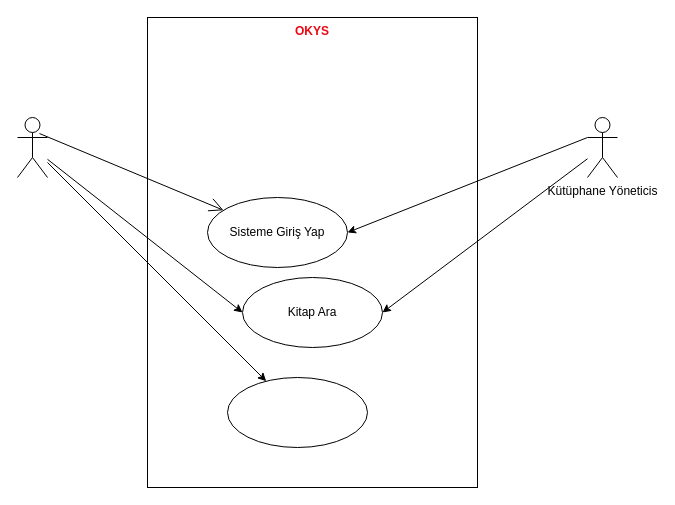
Some shapes in this 675 by 505 pixel diagram are drawn without their labels. Each missing label, with the centre of its shape:
"Ödünç Al" belongs at pixel 297 412.
"Üye" belongs at pixel 32 147.
